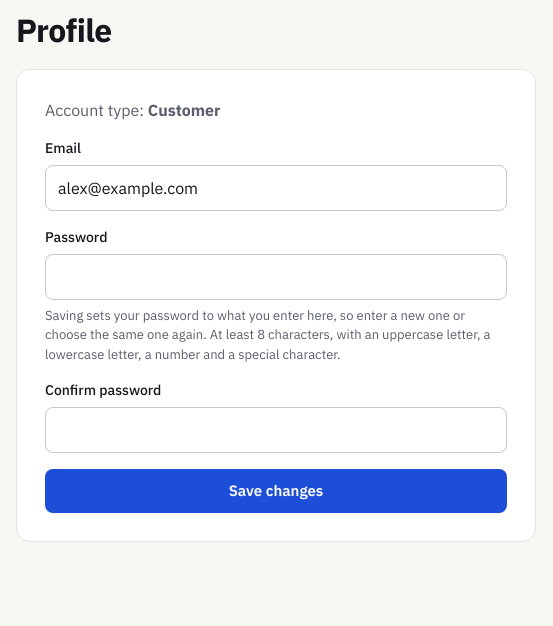
Test: ProfilePage › shows the backend message for a taken email
Replace the text in the field labelled "Email" with "admin@example.com" at (276, 188), box [45,165,507,211]
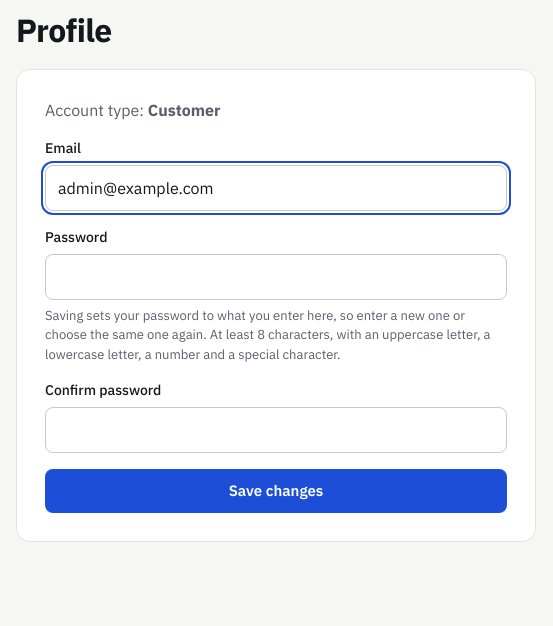
Type "Shopper1!" into the password field labelled "Password" at (276, 277), box [45,254,507,300]
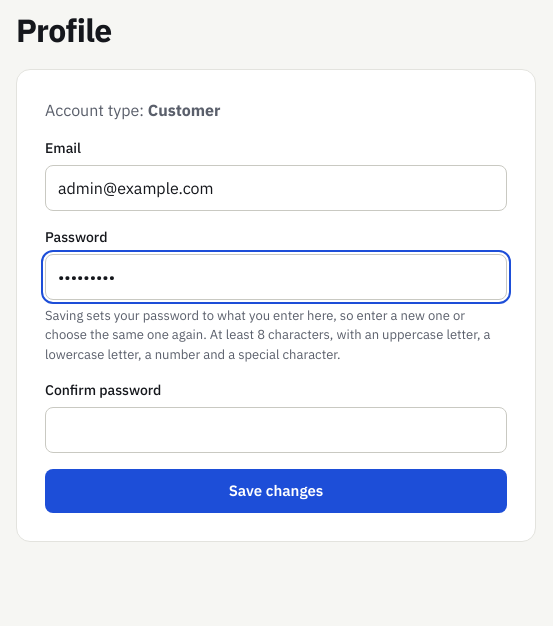
Type "Shopper1!" into the password field labelled "Confirm password" at (276, 430), box [45,407,507,453]
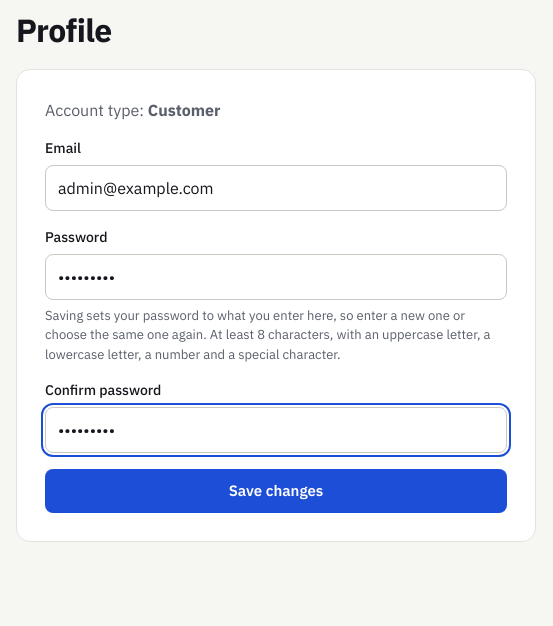
Click the button "Save changes" at (276, 491), box [45,469,507,513]
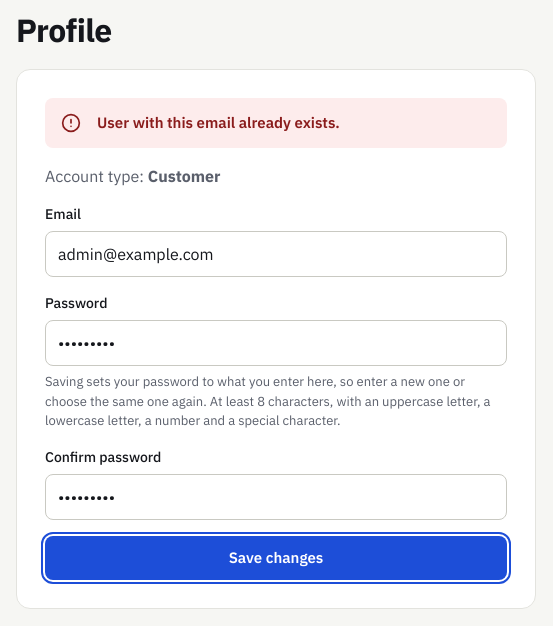
Expected: the message reads "User with this email already exists.", [97,113,340,132]
